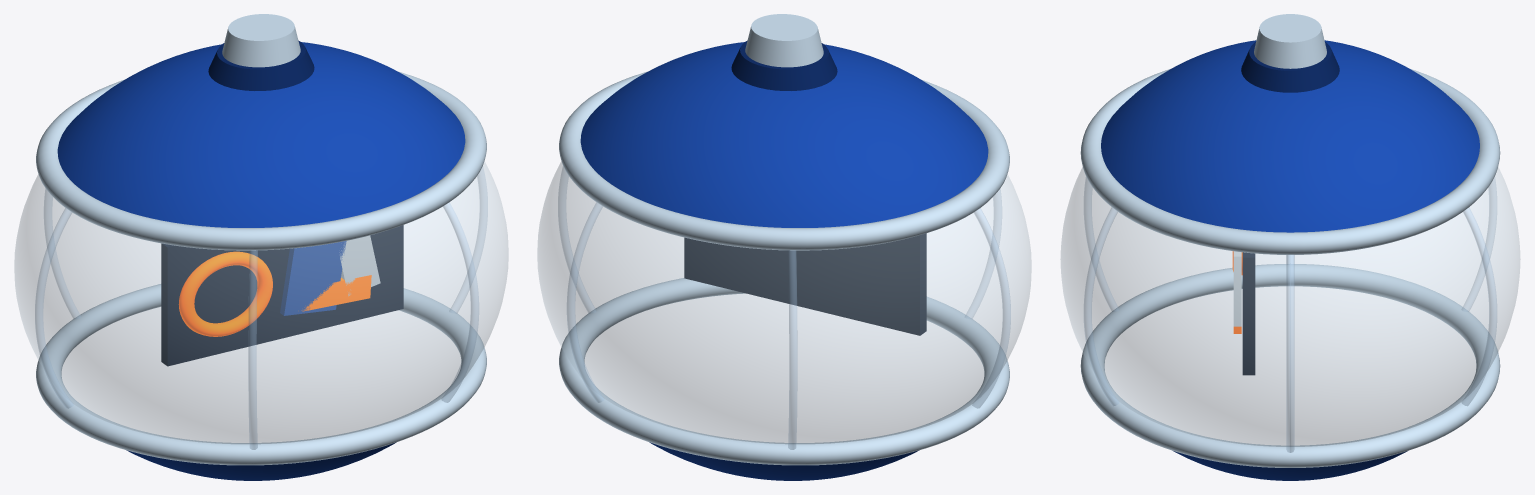
Rendered from gaim-capsem.glb.
3 views of the same model, side by side, from view 1: azimuth 30°, elevation 25°; view 2: azimuth 150°, elevation 25°; view 3: azimuth 270°, elevation 25° (orthographic).
Visible parts, largest first — view 1: Transparent outer shell, Upper blue cap, Lower shell seal, Upper shell seal, Character card backing, Character card inside shell, Top activation button, Orange lockseed mark, Lower blue cap, Top button collar, Vertical shell rib 4, Vertical shell rib 2 (+3 smaller); view 2: Transparent outer shell, Upper blue cap, Lower shell seal, Character card backing, Upper shell seal, Top activation button, Lower blue cap, Top button collar, Vertical shell rib 4, Vertical shell rib 6, Vertical shell rib 5, Vertical shell rib 1 (+1 smaller); view 3: Transparent outer shell, Upper blue cap, Lower shell seal, Upper shell seal, Top activation button, Top button collar, Lower blue cap, Vertical shell rib 1, Character card backing, Vertical shell rib 2, Vertical shell rib 6, Vertical shell rib 3 (+2 smaller).
Boxes of the visible parts, bbox=[...] form: Transparent outer shell: bbox=[14, 161, 508, 443]; Upper blue cap: bbox=[57, 42, 465, 227]; Lower shell seal: bbox=[36, 284, 486, 465]; Upper shell seal: bbox=[36, 71, 486, 250]; Character card backing: bbox=[161, 225, 403, 366]; Character card inside shell: bbox=[280, 235, 380, 315]; Top activation button: bbox=[222, 14, 300, 67]; Orange lockseed mark: bbox=[179, 251, 272, 336]; Lower blue cap: bbox=[126, 442, 396, 480]; Top button collar: bbox=[208, 40, 314, 90]; Vertical shell rib 4: bbox=[35, 208, 73, 408]; Vertical shell rib 2: bbox=[441, 202, 478, 402]; Transparent outer shell: bbox=[537, 161, 1031, 443]; Upper blue cap: bbox=[580, 42, 988, 227]; Lower shell seal: bbox=[559, 278, 1009, 465]; Character card backing: bbox=[684, 233, 926, 335]; Upper shell seal: bbox=[559, 71, 1009, 250]; Top activation button: bbox=[745, 14, 823, 67]; Lower blue cap: bbox=[649, 442, 919, 480]; Top button collar: bbox=[731, 40, 837, 90]; Vertical shell rib 4: bbox=[972, 208, 1010, 408]; Vertical shell rib 6: bbox=[567, 202, 604, 402]; Vertical shell rib 5: bbox=[788, 250, 797, 449]; Vertical shell rib 1: bbox=[558, 167, 596, 312]; Transparent outer shell: bbox=[1060, 167, 1520, 446]; Upper blue cap: bbox=[1101, 40, 1479, 232]; Lower shell seal: bbox=[1080, 264, 1500, 467]; Upper shell seal: bbox=[1080, 69, 1500, 254]; Top activation button: bbox=[1254, 14, 1326, 68]; Top button collar: bbox=[1241, 42, 1339, 92]; Lower blue cap: bbox=[1173, 451, 1407, 480]; Vertical shell rib 1: bbox=[1286, 255, 1294, 452]; Character card backing: bbox=[1242, 252, 1255, 375]; Vertical shell rib 2: bbox=[1084, 207, 1119, 405]; Vertical shell rib 6: bbox=[1461, 207, 1496, 405]; Vertical shell rib 3: bbox=[1084, 177, 1118, 311].
Bounding box in the file's own units: 2.32 × 2.1 × 2.06.
